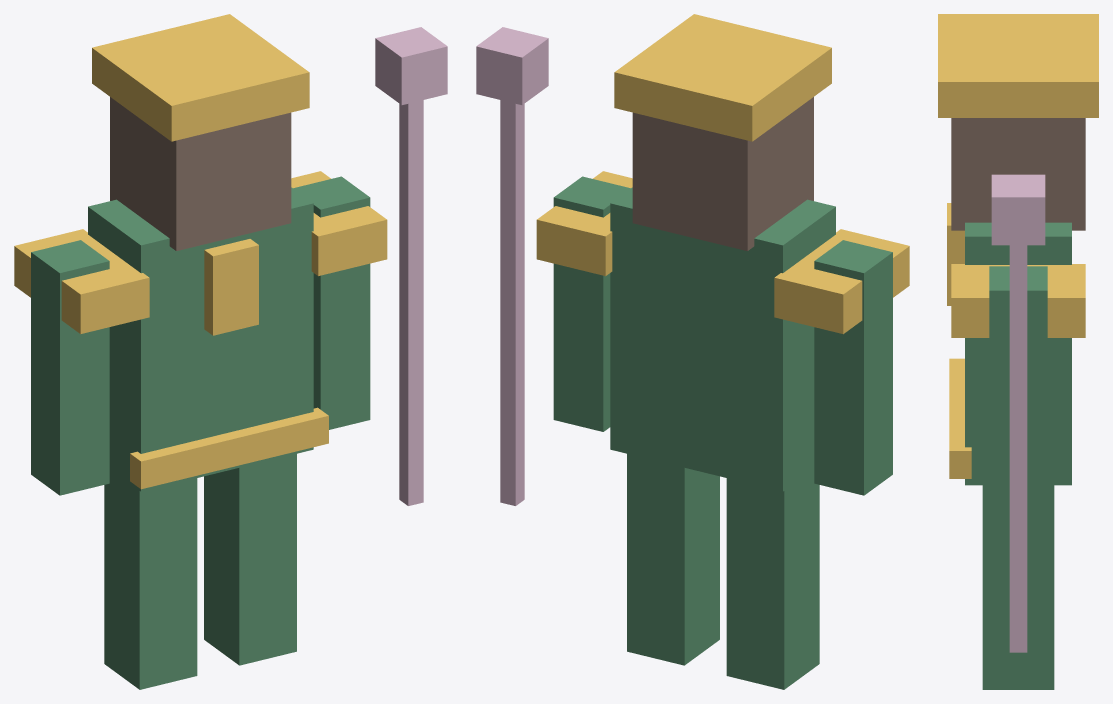
Rendered from 18_kiva_mossguard_sentinel_of.glb.
3 views of the same model, side by side, from view 1: azimuth 30°, elevation 25°; view 2: azimuth 150°, elevation 25°; view 3: azimuth 270°, elevation 25° (orthographic).
Visible parts, largest first — view 1: Kiva Mossguard, Sentinel of; view 2: Kiva Mossguard, Sentinel of; view 3: Kiva Mossguard, Sentinel of.
Part boxes in pixels (<box>): Kiva Mossguard, Sentinel of: <box>14,14,447,689</box>; Kiva Mossguard, Sentinel of: <box>476,14,909,689</box>; Kiva Mossguard, Sentinel of: <box>938,14,1098,689</box>.
Size of the model in its own units: 1.06 by 1.56 by 0.3768.
